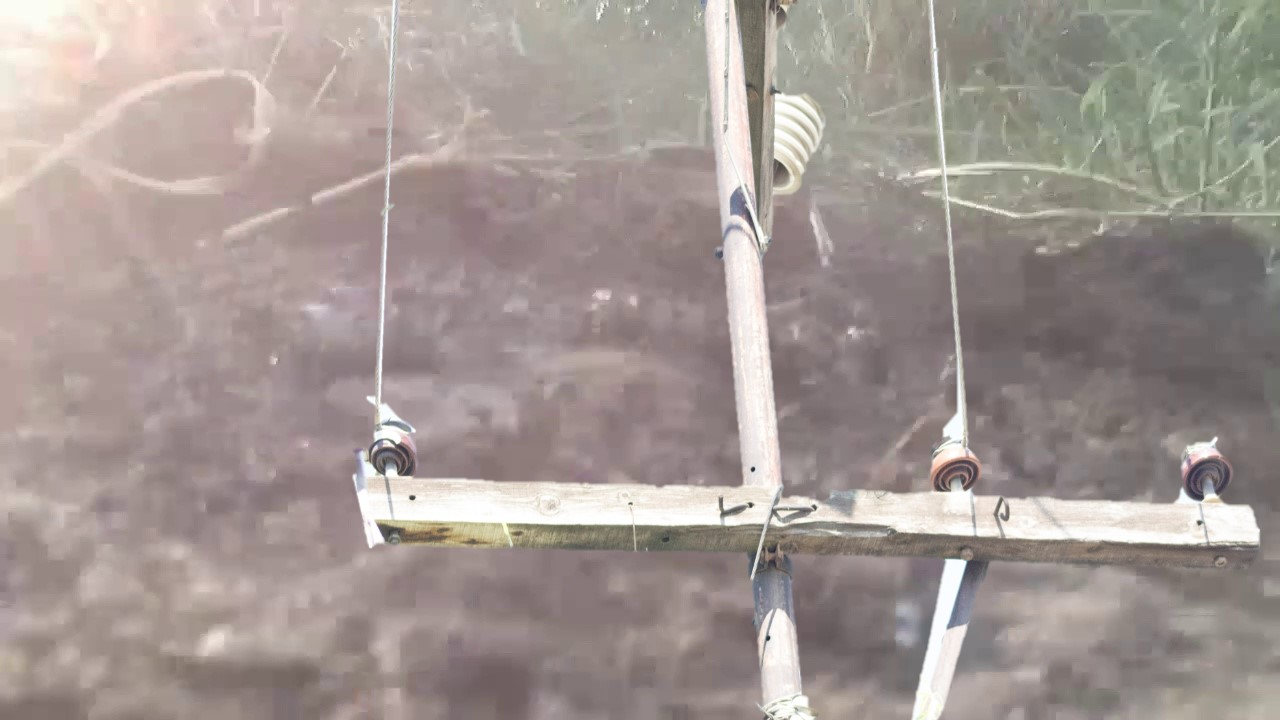defect_pin: (366, 417, 421, 474)
insulator_pin: (1178, 430, 1234, 497), (930, 438, 985, 496)
